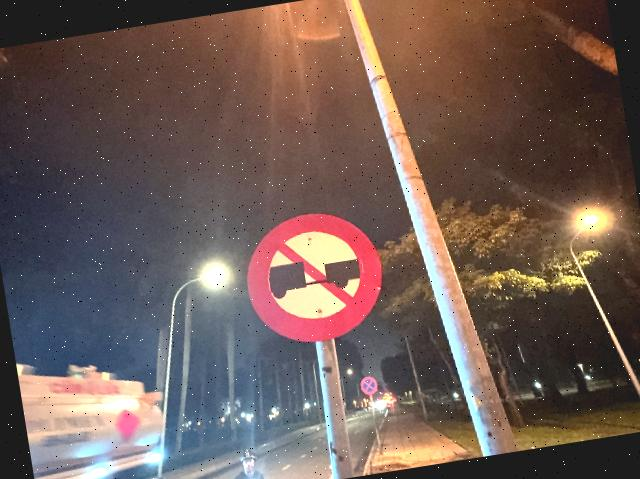cam-xe-somi-romooc: (238, 201, 392, 351)
